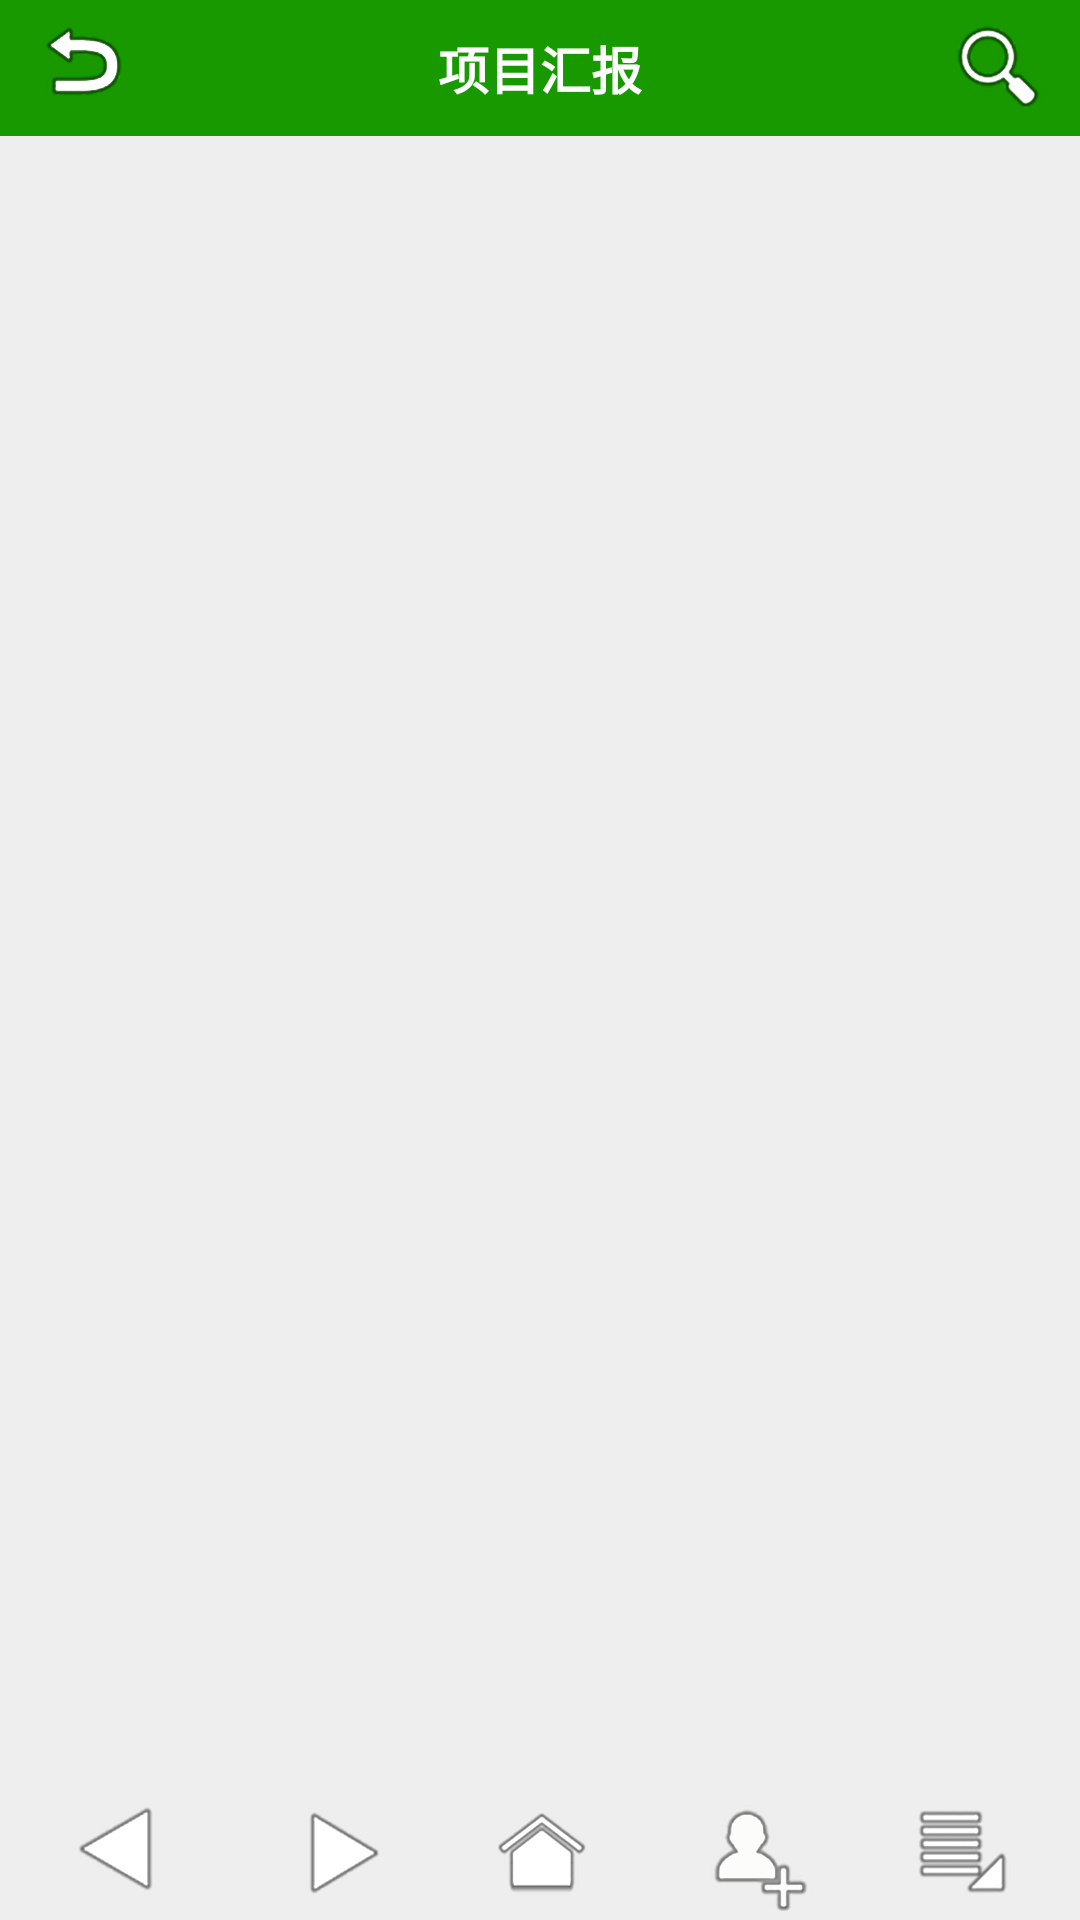

Point at icon controls on the screen. Image size 1080 × 1920, points as (x=x, y=y).
add: (x=761, y=1860)
